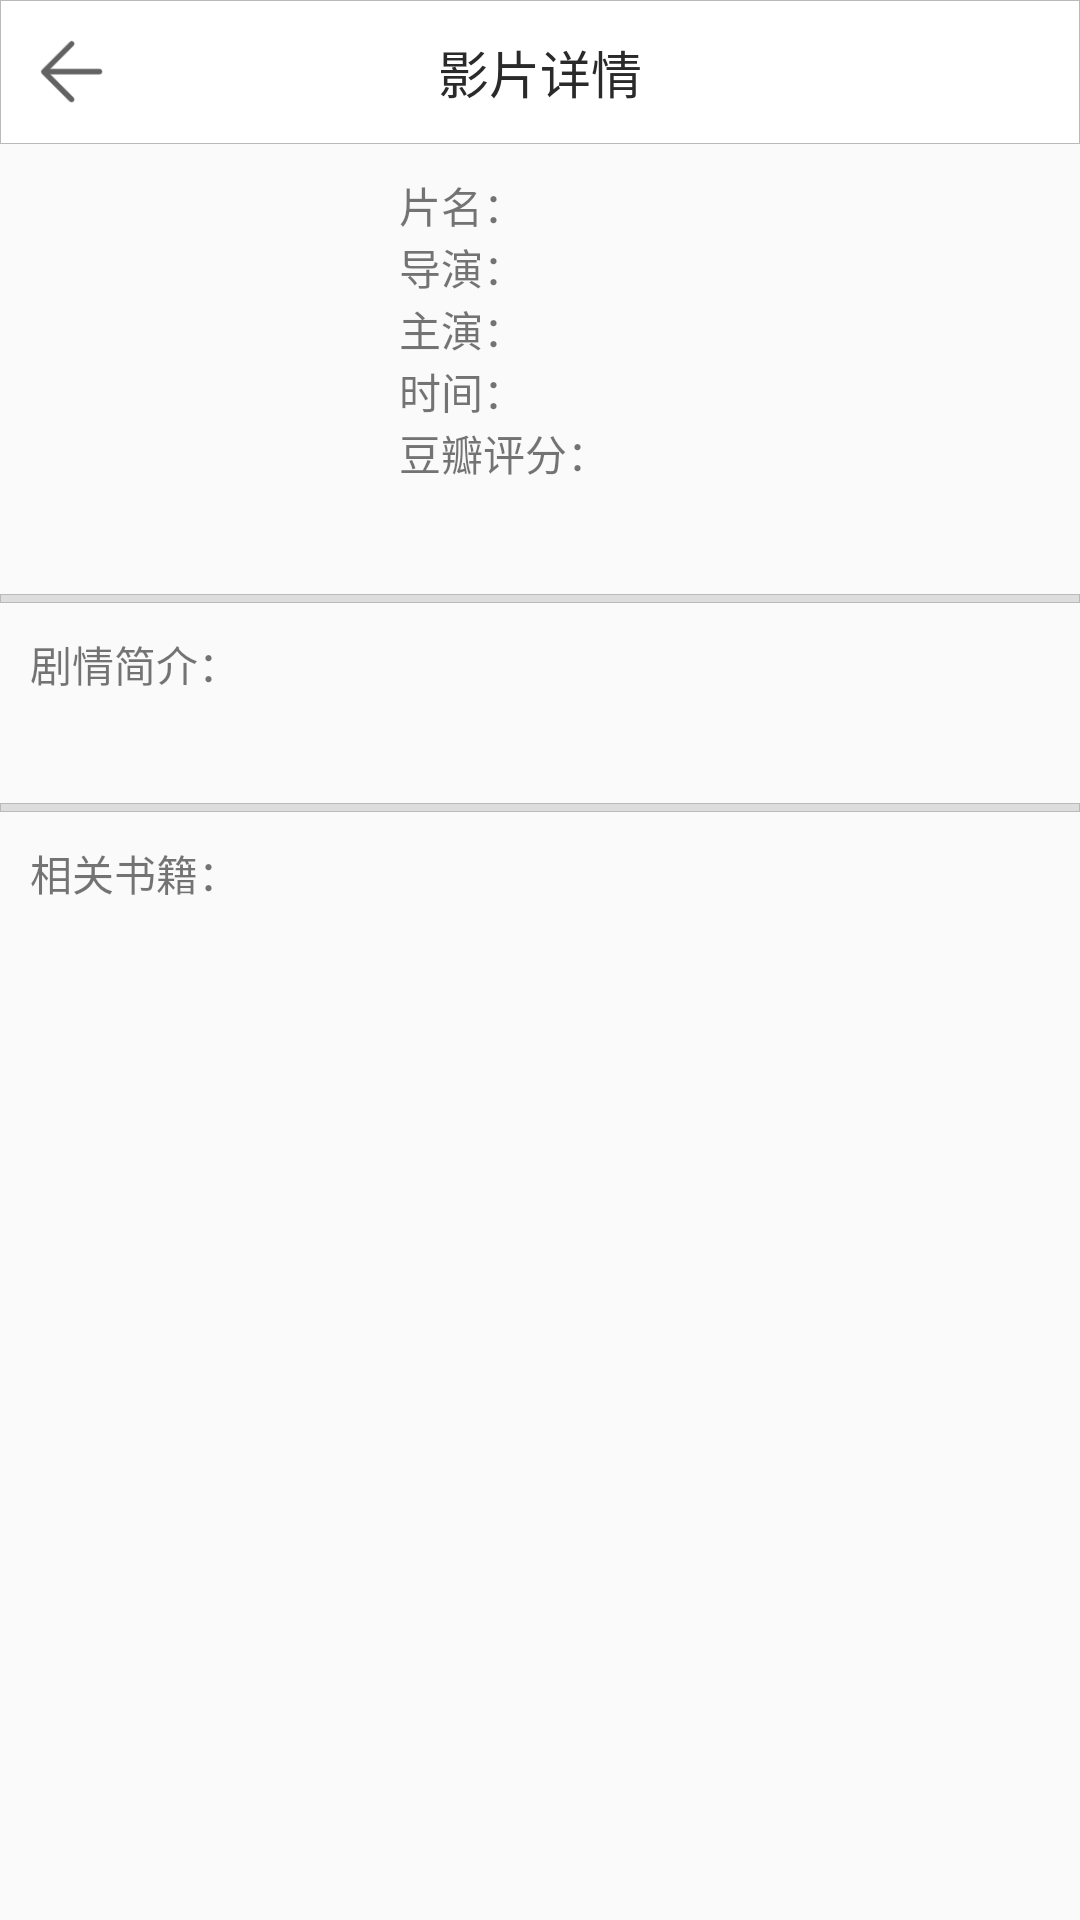

Named icons in this screenshot (1080w x 1920h) and their centers, [x,y]:
back nor: [72,72]
